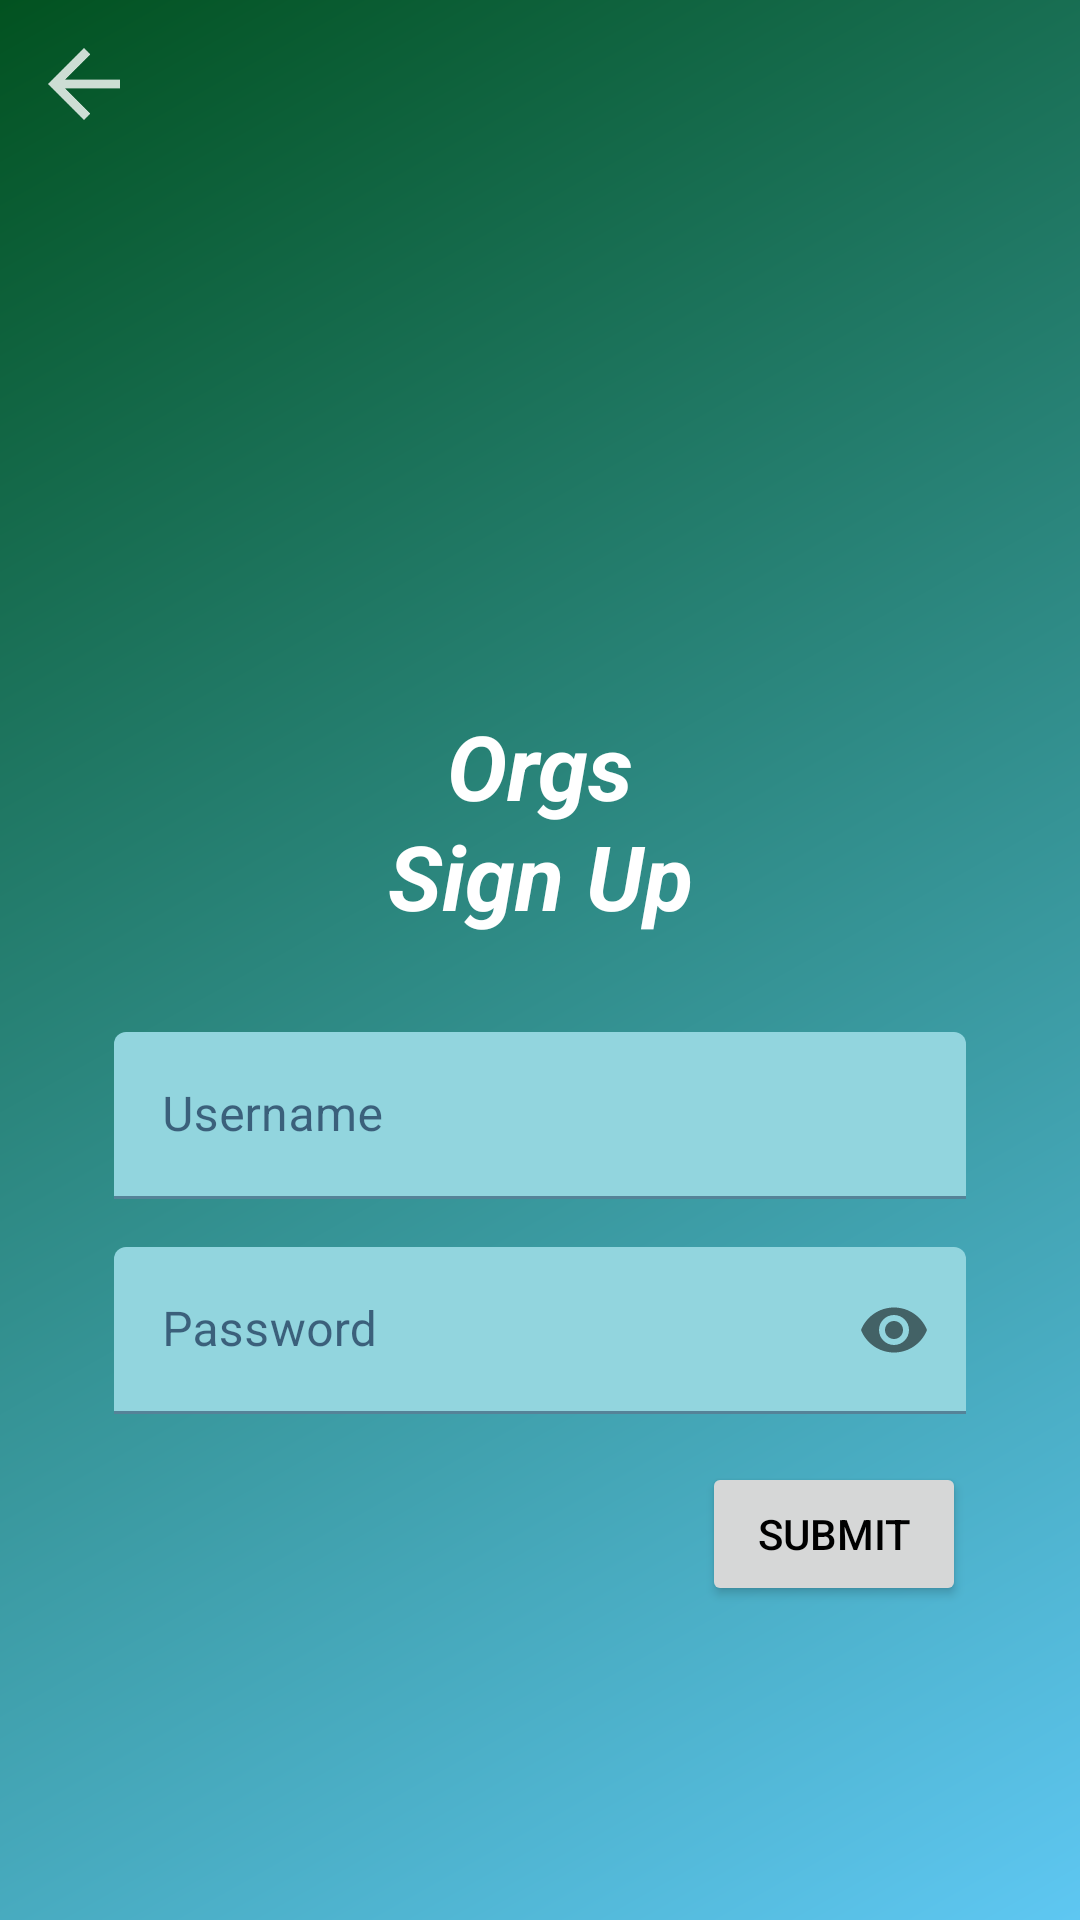

Icons on this 1080x1920 Android screen, each with the point to tap as point (x, y):
Go back to Login Screen: point (84, 84)
